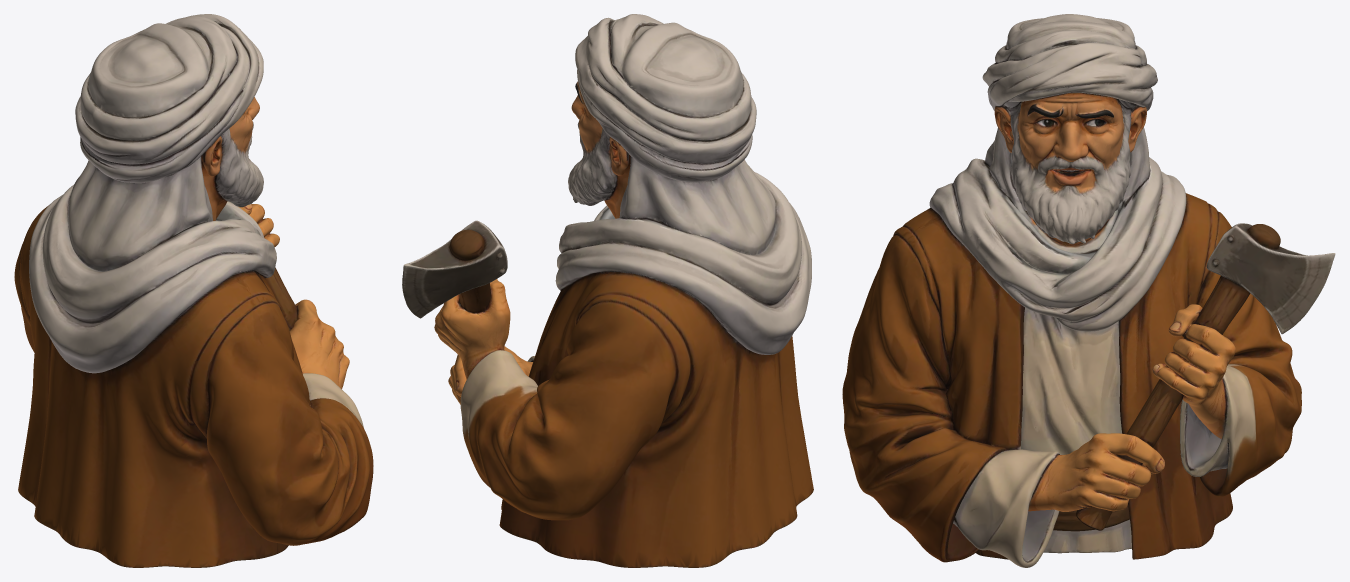
Rendered from page-05.glb.
3 views of the same model, side by side, from view 1: azimuth 30°, elevation 25°; view 2: azimuth 150°, elevation 25°; view 3: azimuth 270°, elevation 25° (orthographic). The views are drawn at different scales.
Visible parts, largest first — view 1: tripo_node_83c74050-4363-4527-9ec9-d61dbf709ec6; view 2: tripo_node_83c74050-4363-4527-9ec9-d61dbf709ec6; view 3: tripo_node_83c74050-4363-4527-9ec9-d61dbf709ec6.
Boxes of the visible parts, x1=… form: tripo_node_83c74050-4363-4527-9ec9-d61dbf709ec6: x1=14, y1=14, x2=373, y2=567; tripo_node_83c74050-4363-4527-9ec9-d61dbf709ec6: x1=402, y1=14, x2=813, y2=567; tripo_node_83c74050-4363-4527-9ec9-d61dbf709ec6: x1=842, y1=14, x2=1335, y2=567.
Bounding box in the file's own units: 0.6865 × 1 × 0.9209.
Materials: 1 (1 with a texture image).
